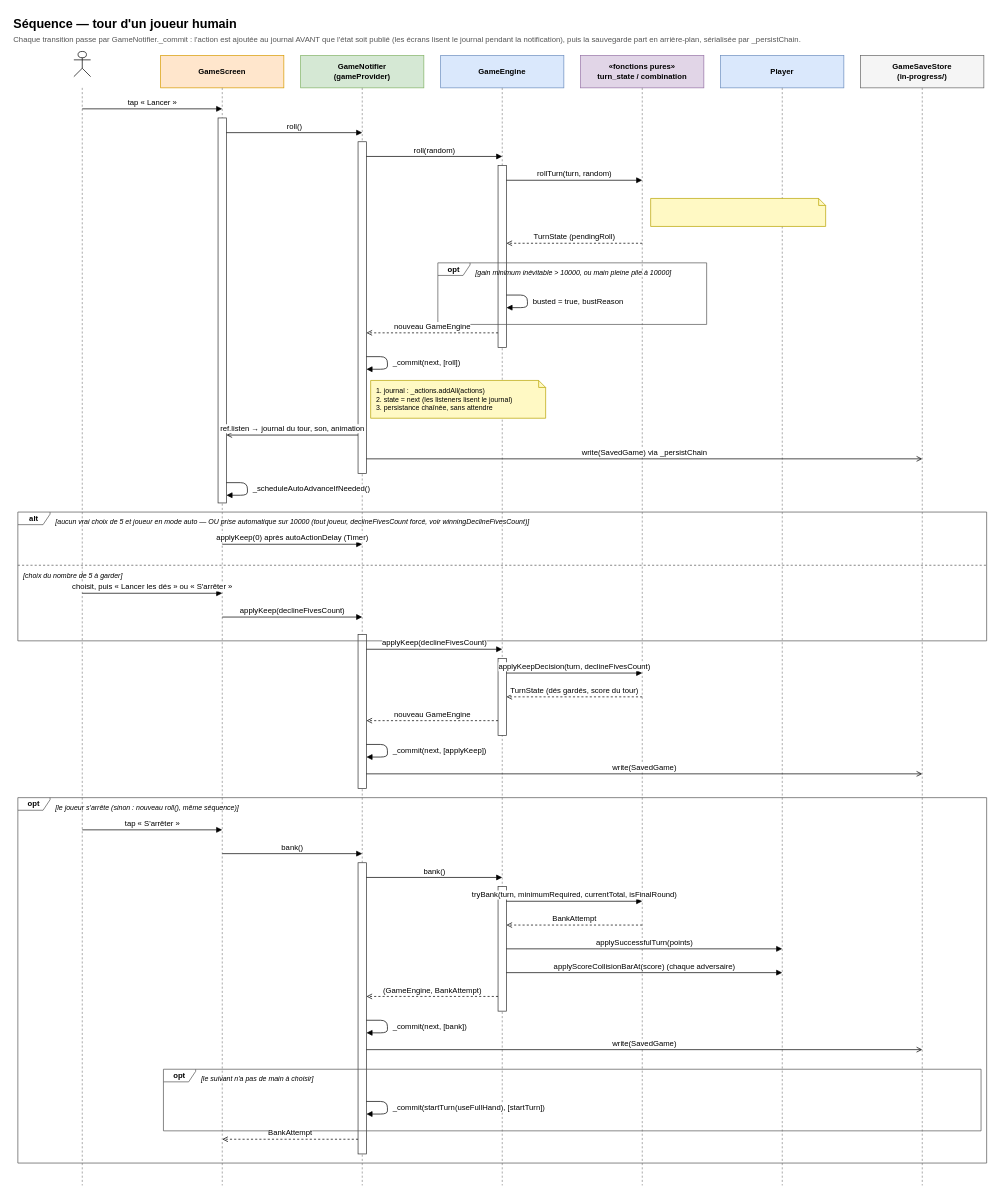
Some shapes in this 1000 by 1198 pixel diagram are drawn without their labels. The centre of each missing label's shape, as x and y in pixels:
"Joueur" goes at [82,64].
"rollDice(n) puis analyzeRoll(faces, extendedValues) → RollAnalysis" goes at [738,212].
